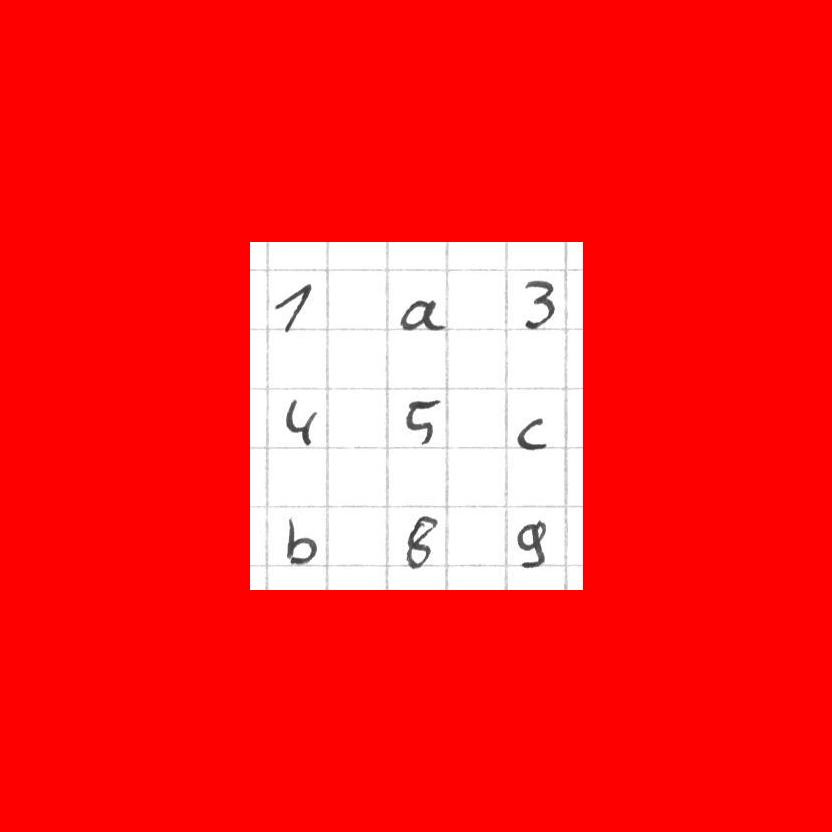Char: (265, 275, 325, 344), (396, 509, 450, 571), (391, 288, 454, 341), (397, 391, 449, 452), (276, 390, 326, 451), (517, 271, 561, 340), (506, 407, 557, 459), (280, 511, 323, 572), (511, 513, 550, 574)
